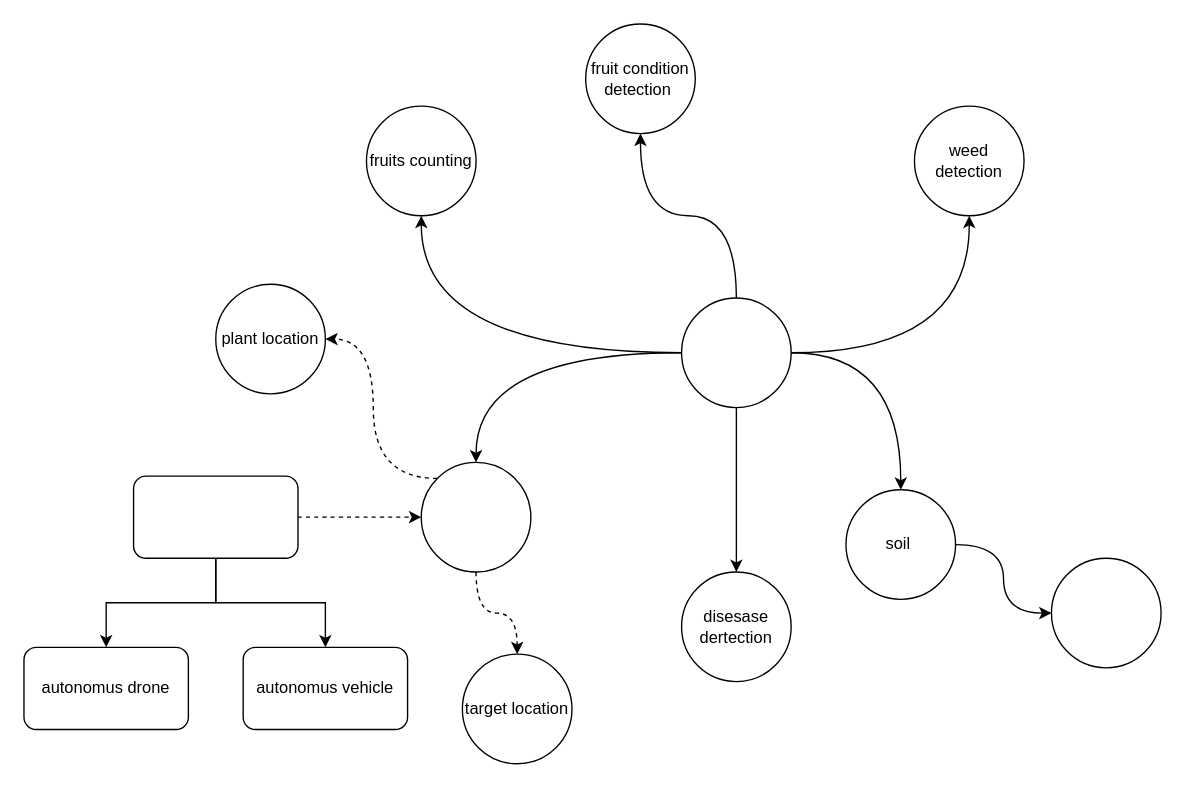
This 1185x788 diagram has some shape labels left out. Here are the shapes that lost their labels. From the top down, the centre of each, then its label:
point (735, 352): use case
point (215, 516): controller hub
point (475, 516): route navigation
point (1105, 612): water level
